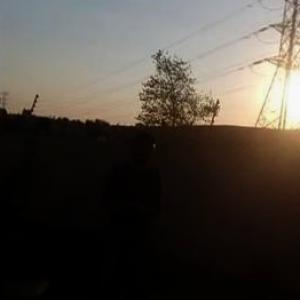follow: (92, 125, 169, 299)
